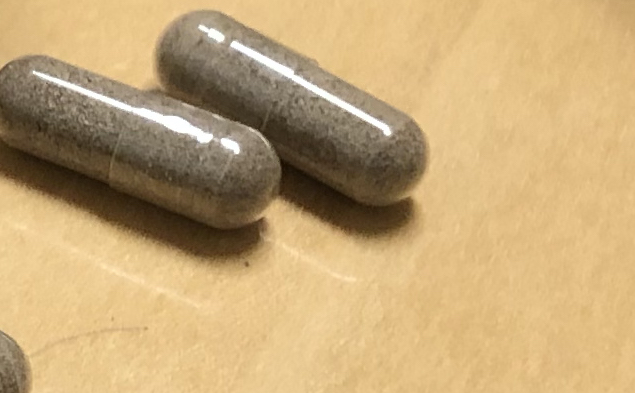capsule: (155, 9, 432, 210), (1, 53, 281, 227)
